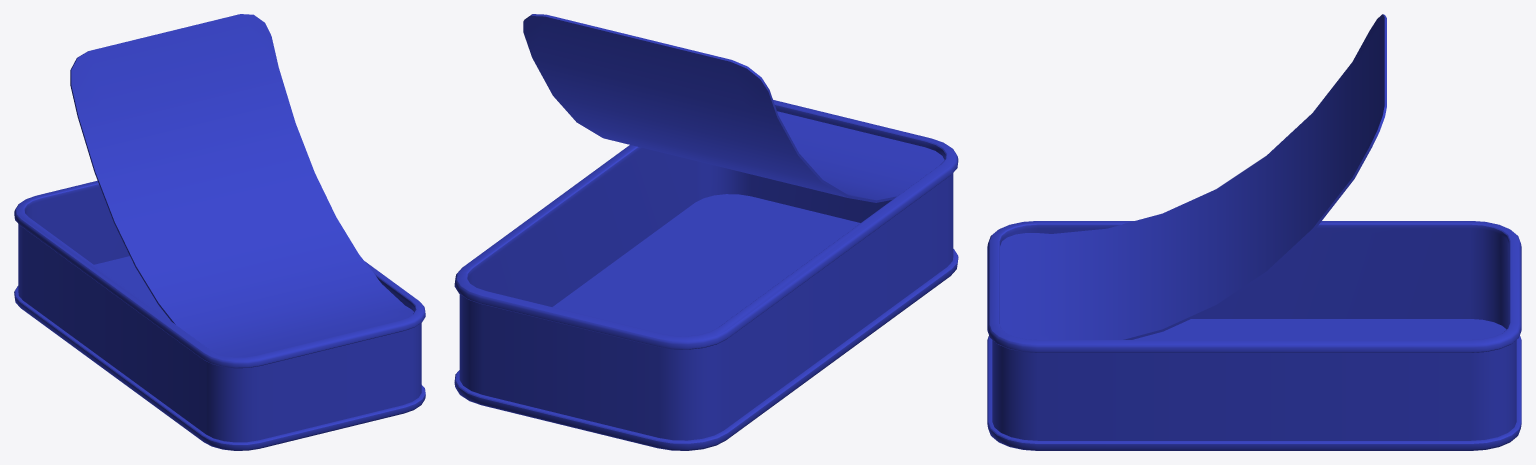
Rendered from Food Can.fbx.
3 renders of one model, left to right at view 1: azimuth 30°, elevation 25°; view 2: azimuth 150°, elevation 25°; view 3: azimuth 270°, elevation 25°, orthographic. The views are drawn at different scales.
Visible parts, largest first — view 1: Food Can; view 2: Food Can; view 3: Food Can.
Boxes of the visible parts, x1,y1,x2,y2 form: Food Can: (14, 14, 425, 450); Food Can: (454, 14, 958, 450); Food Can: (987, 14, 1521, 450).
Bounding box in the file's own units: 10.23 × 12.46 × 18.33.
